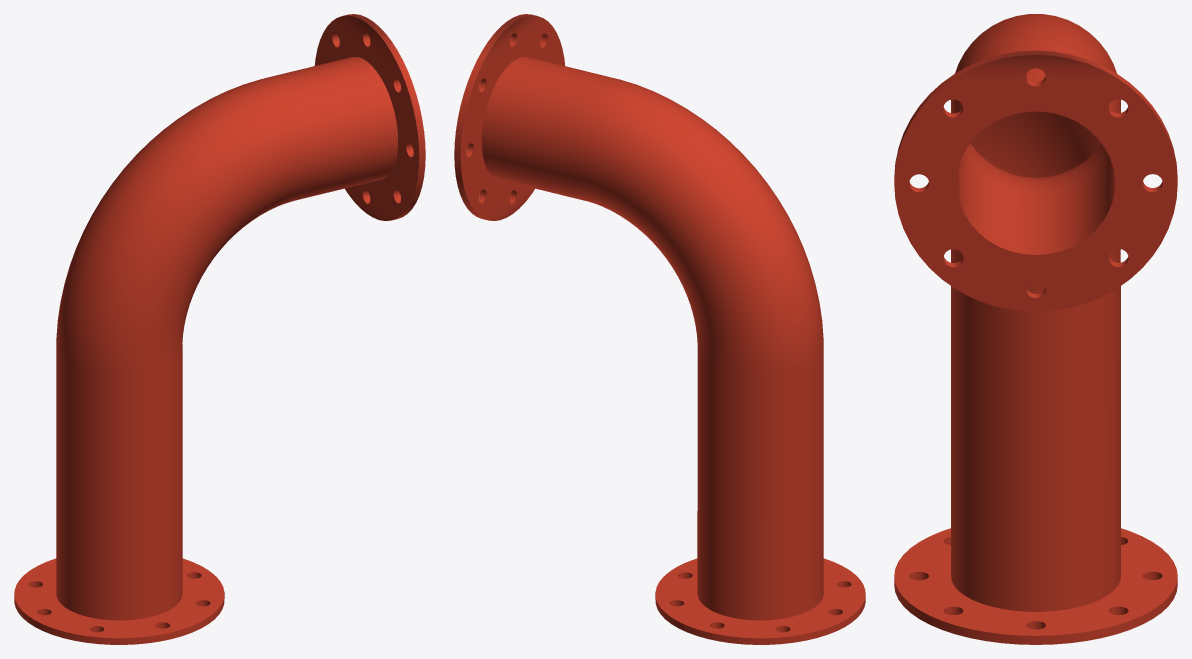
File: Truba.fbx
3 renders of one model, left to right at view 1: azimuth 30°, elevation 25°; view 2: azimuth 150°, elevation 25°; view 3: azimuth 270°, elevation 25°, orthographic. The views are drawn at different scales.
Visible parts, largest first — view 1: Второй блок\Потрубок угловой.002; view 2: Второй блок\Потрубок угловой.002; view 3: Второй блок\Потрубок угловой.002.
Boxes of the visible parts, left/top/right/bottom form: Второй блок\Потрубок угловой.002: left=14, top=14, right=425, bottom=644; Второй блок\Потрубок угловой.002: left=454, top=14, right=865, bottom=644; Второй блок\Потрубок угловой.002: left=894, top=14, right=1177, bottom=644.
Bounding box in the file's own units: 32170 × 46118 × 17000.
